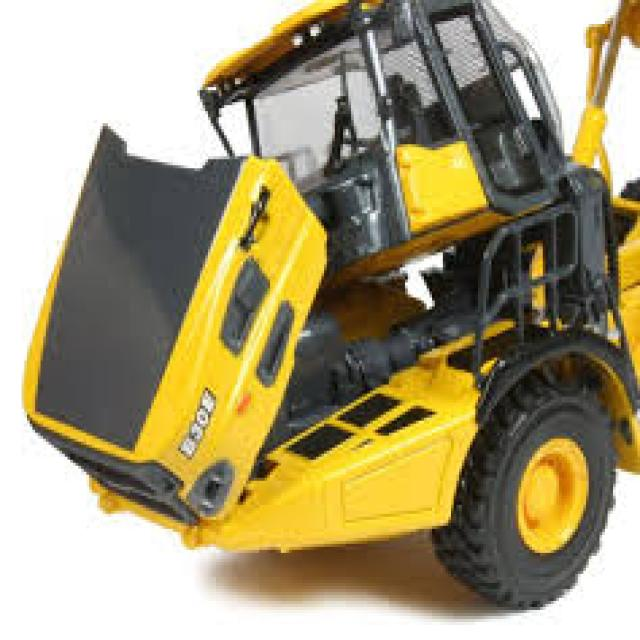dump_truck: (54, 6, 637, 589)
